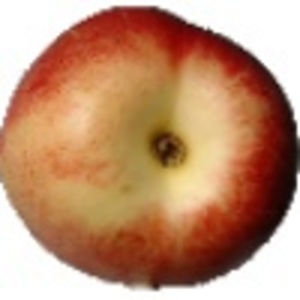nectarina: (1, 1, 300, 292)
